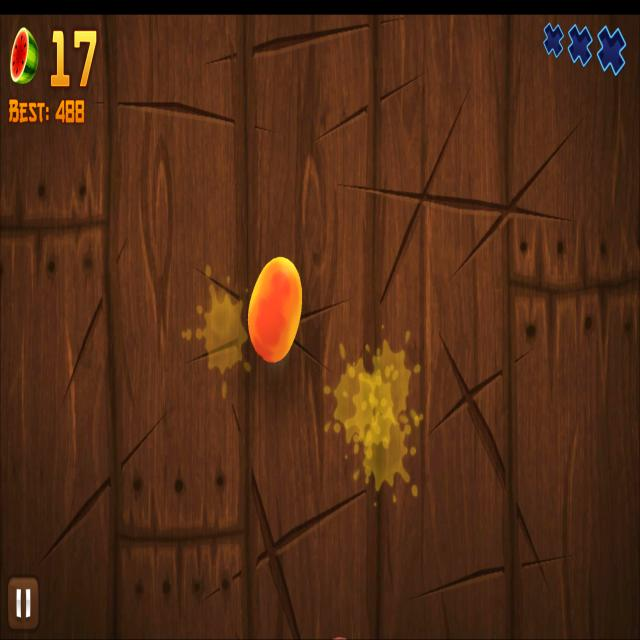fruit: (248, 255, 303, 362)
